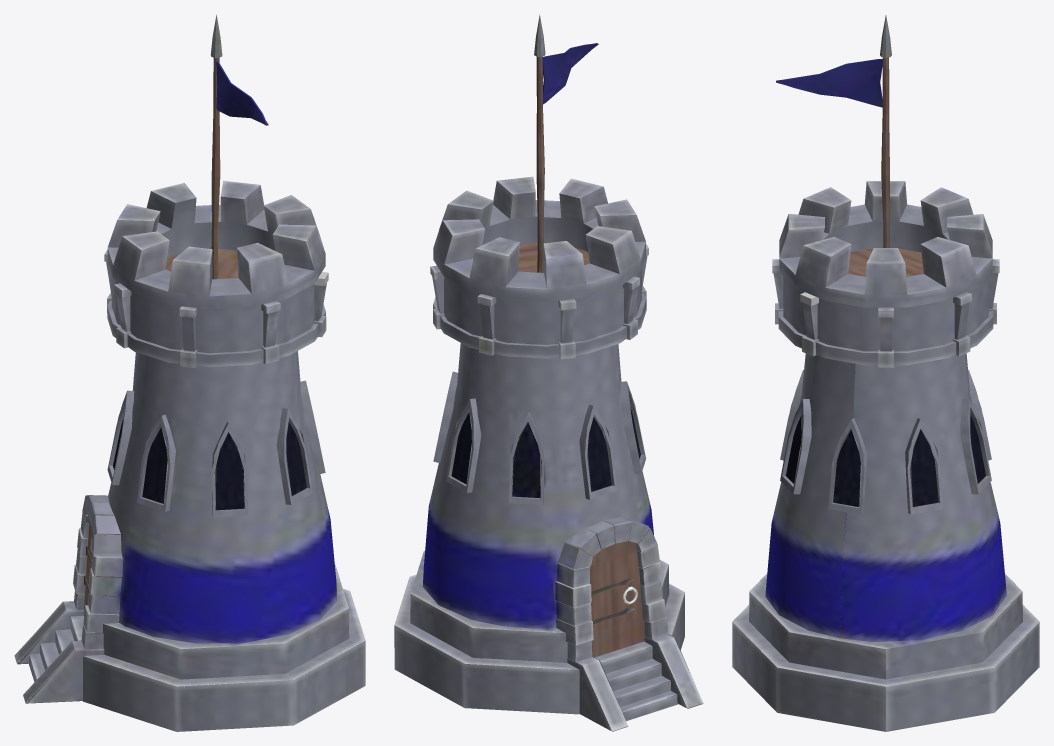
File: tower_princess.glb
The picture shows the model from 3 angles, left to right: view 1: azimuth 30°, elevation 25°; view 2: azimuth 150°, elevation 25°; view 3: azimuth 270°, elevation 25°; orthographic projection. The views are drawn at different scales.
Visible parts, largest first — view 1: Object_4; view 2: Object_4; view 3: Object_4.
Boxes of the visible parts, x1,y1,x2,y2 form: Object_4: (14, 15, 365, 731); Object_4: (394, 14, 703, 731); Object_4: (732, 15, 1039, 731).
Bounding box in the file's own units: 3.1 × 6.2 × 2.64.
1 material, 1 textured.
